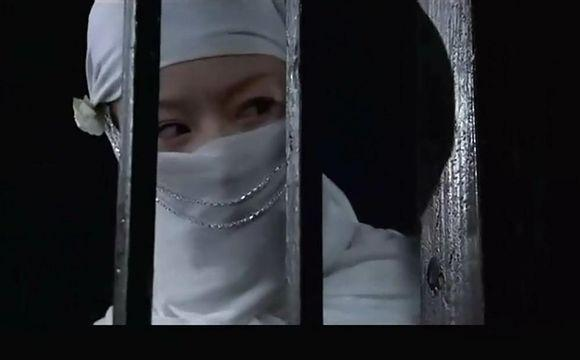OK: (122, 75, 301, 254)
